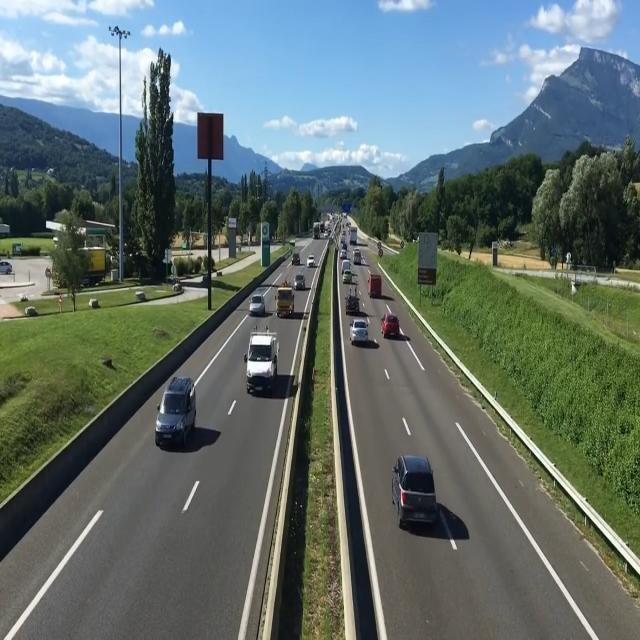Car: (389, 458, 437, 534), (154, 372, 198, 450), (380, 313, 401, 338), (349, 319, 368, 345), (247, 294, 266, 317), (293, 274, 306, 290), (306, 254, 316, 268)
Truck: (274, 285, 296, 317)
Van: (243, 329, 280, 398), (366, 274, 384, 298)
